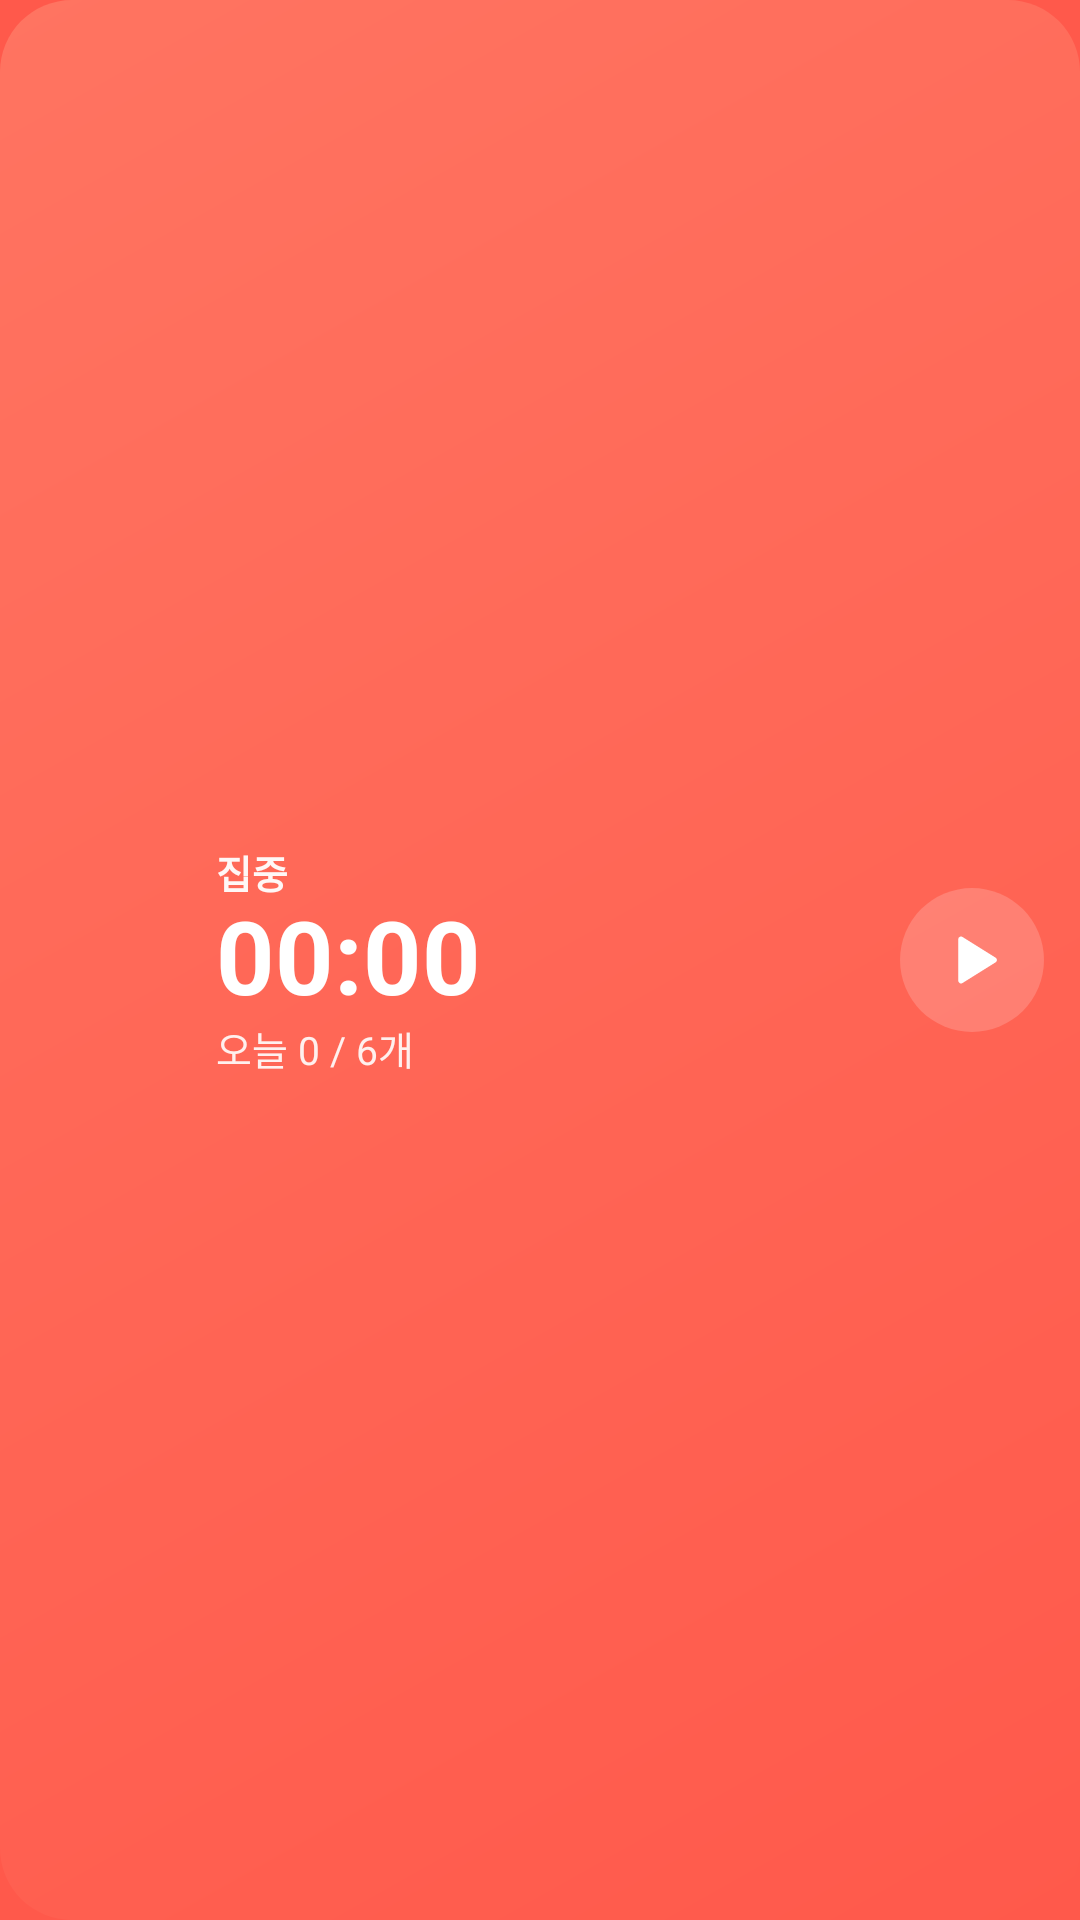

Locate icon controls on the screen. Image size 1080w x 1920h, boxes as (left=x1, top=y1, right=x2, bottom=y2).
시작 또는 멈춤: (left=900, top=888, right=1044, bottom=1032)
